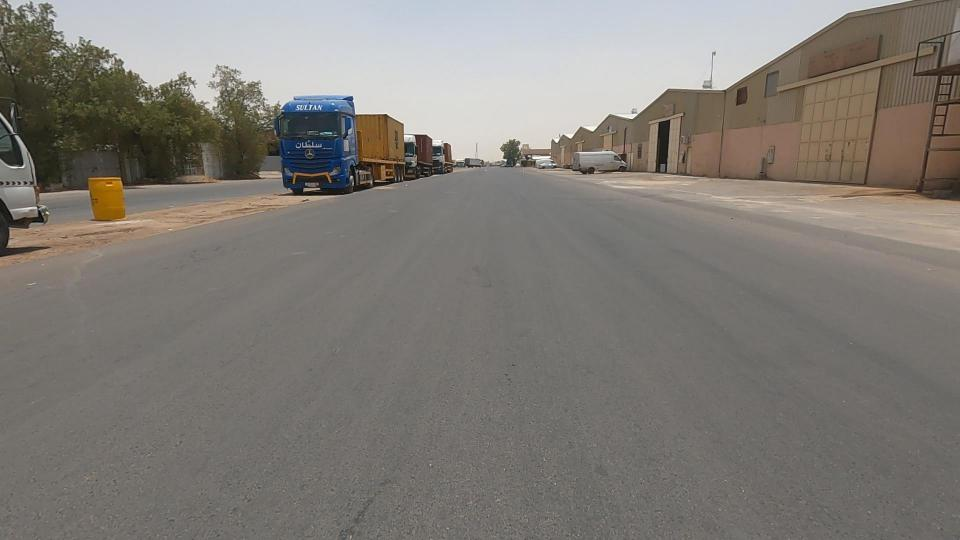CLUTTER_SIDEWALK: (135, 165, 355, 264), (25, 185, 211, 266)
